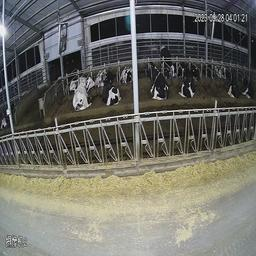cow: (145, 60, 170, 110), (70, 72, 97, 113), (174, 64, 197, 111), (103, 73, 122, 112), (227, 63, 242, 105), (157, 39, 172, 68), (243, 68, 254, 105), (95, 62, 108, 92), (120, 60, 133, 88), (200, 56, 216, 78), (218, 57, 228, 79)
